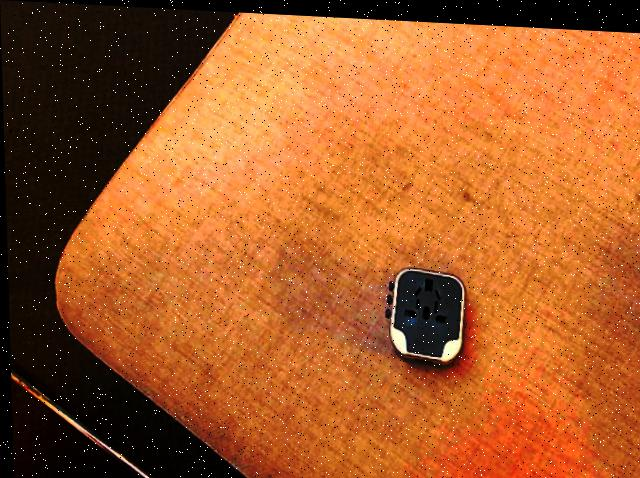adapter: (381, 260, 465, 362)
